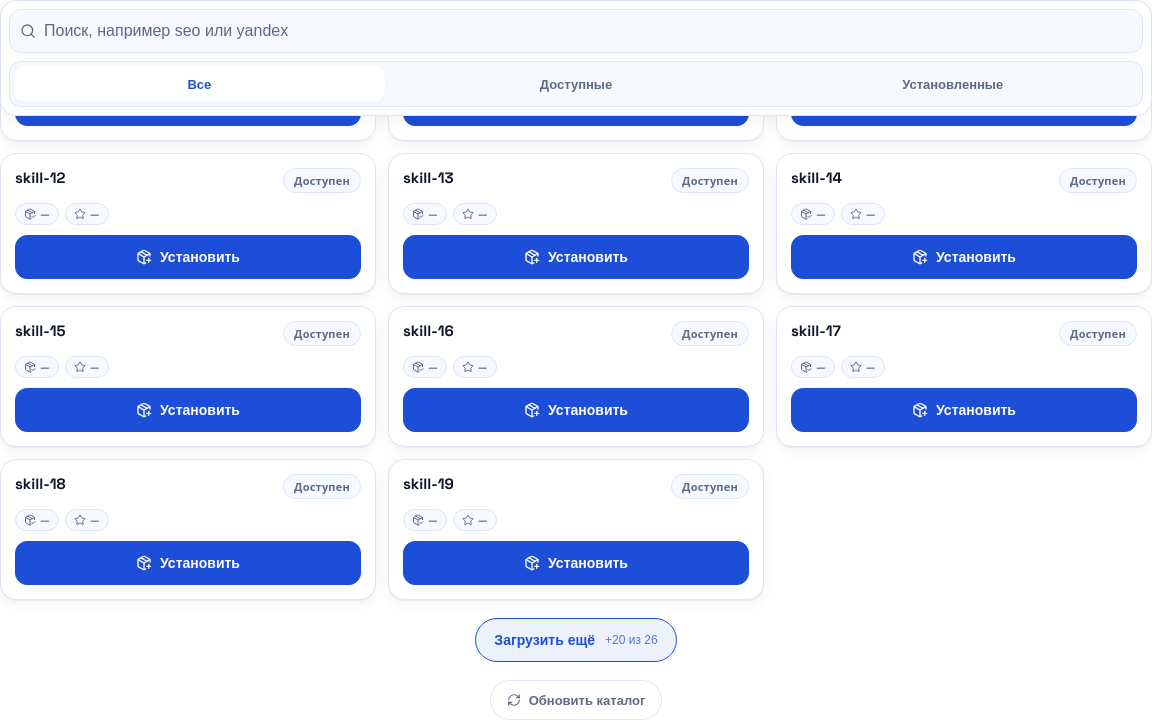
Test: SkillsTab pagination › expands by 20 on each click and hides the button when exhausted
This screenshot has width=1152, height=720.
(page scrolled)
Click the button "Загрузить ещё +20 из 26" at [576, 640], box [475,618,677,662]
(page scrolled)
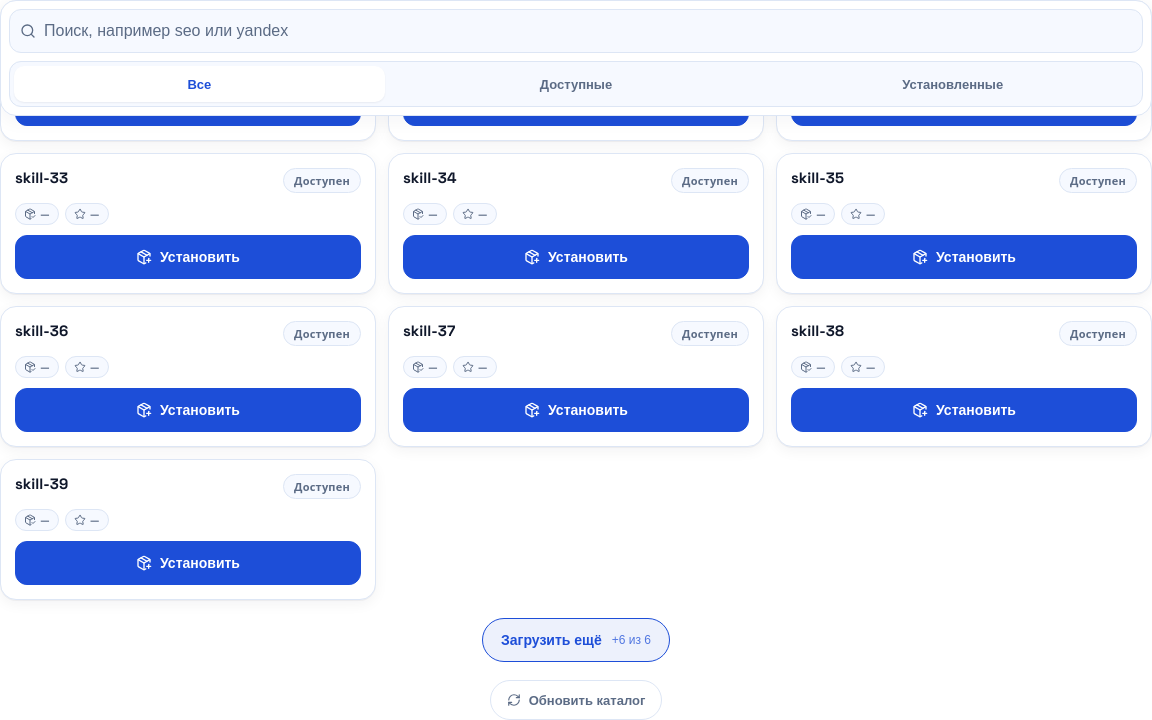
Expected: the heading "skill-40" is not shown
Expected: the heading "skill-39" is shown, [15,474,68,493]
Click the button "Загрузить ещё +6 из 6" at [576, 640], box [482,618,670,662]
(page scrolled)
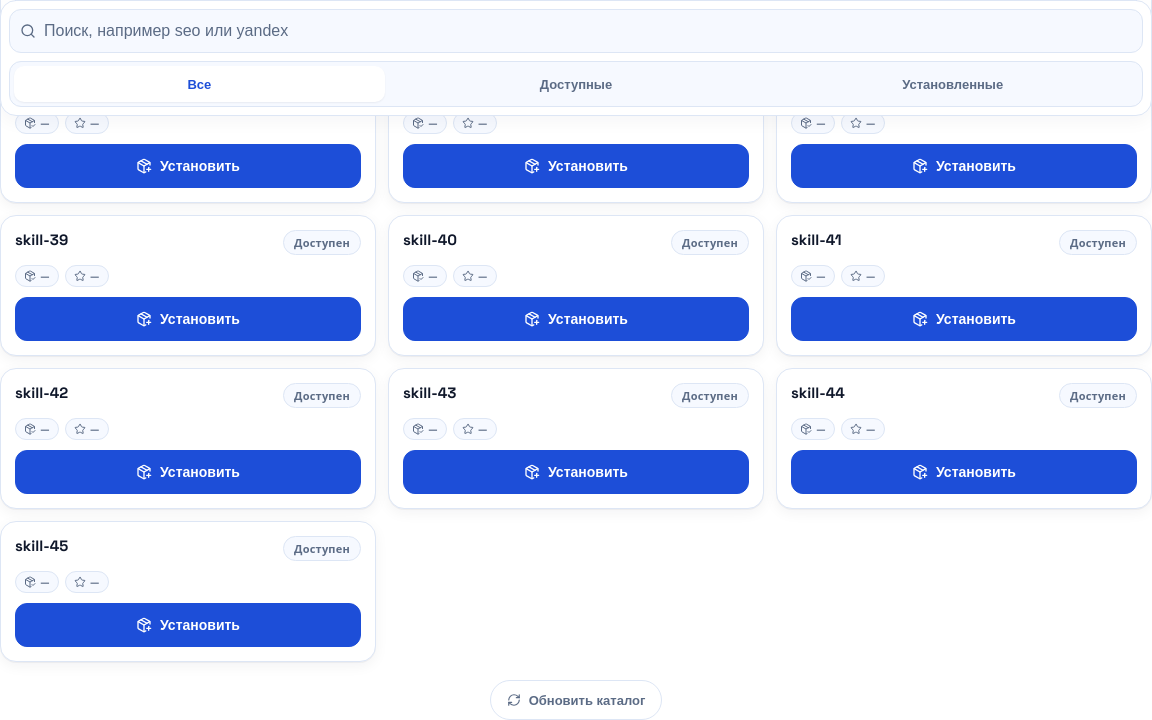
Expected: the heading "skill-45" is shown, [15,536,68,555]
Expected: the button "Загрузить ещё" is gone
